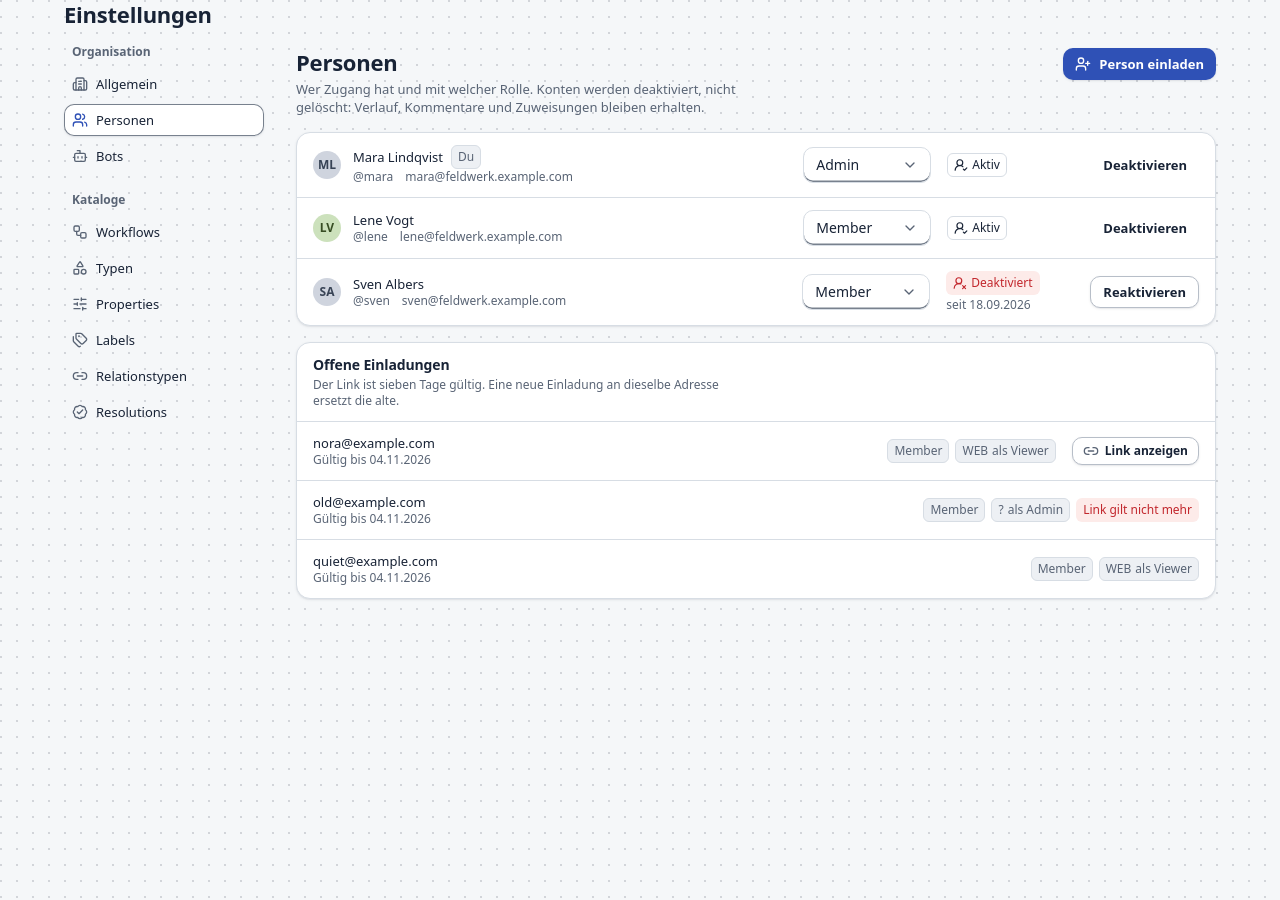
Test: People › lists the open invitations with their projects; a closed one and one without a link offer none
expect the list item that starts with "nora@example.com" shows "Gültig bis 04.11.2026": met, box [313,451,431,468]
expect the list item that starts with "nora@example.com" shows "WEB als Viewer": met, box [297,422,1215,481]
Click the button named "Link anzeigen für nora@example.com" at (1135,451), box [1072,437,1199,465]
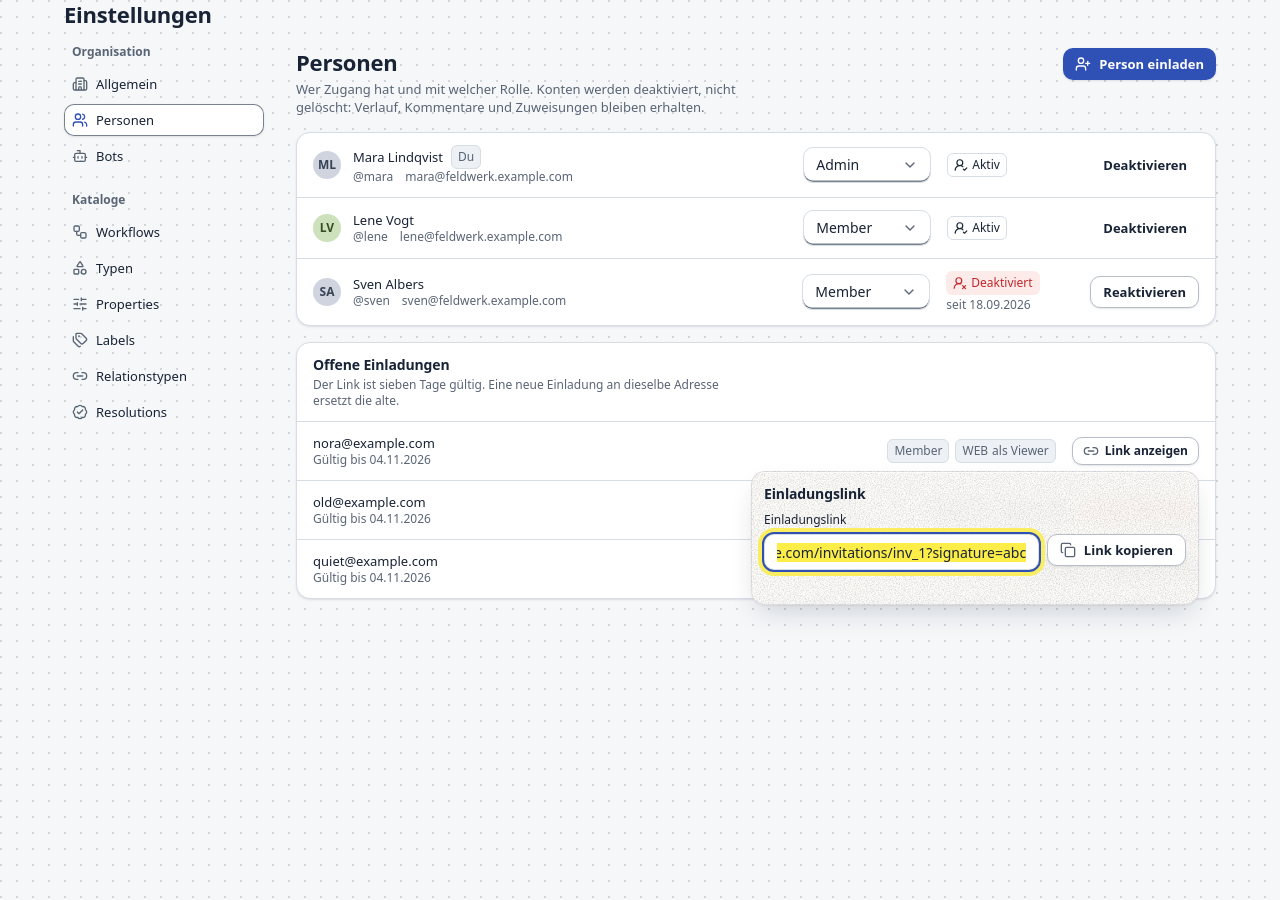
expect the field labelled "Einladungslink" holds "https://werkbuch.example.com/invitations/inv_1?signature=abc": met, box [764,534,1039,570]
